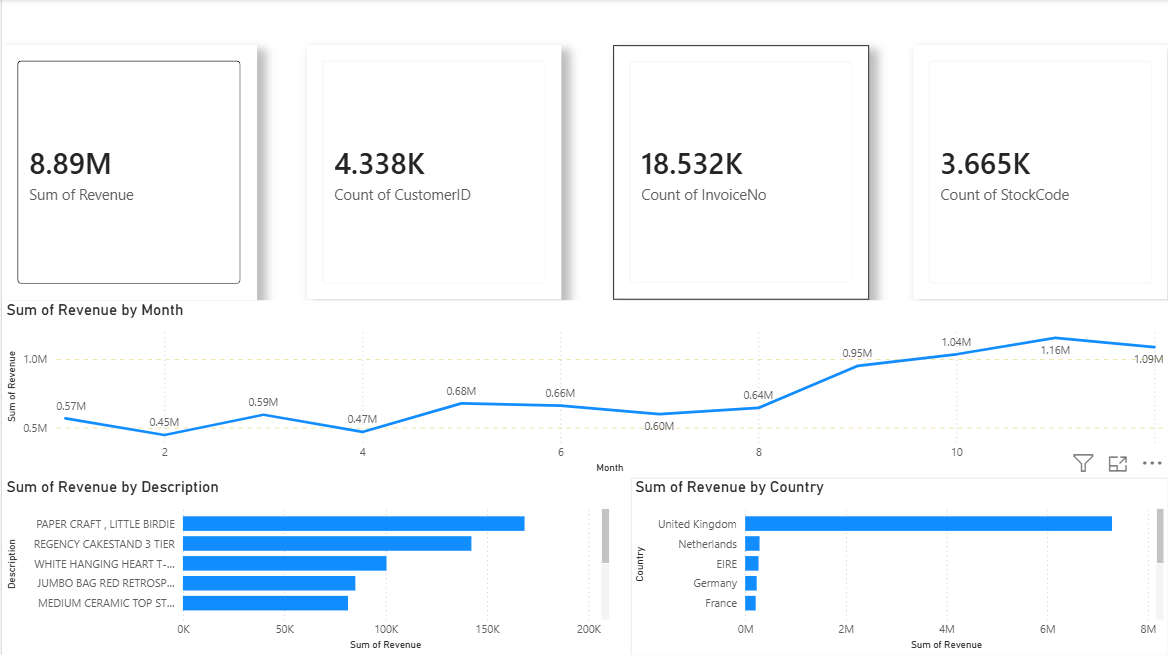

What the dashboard file says about the page in this screenshot:
{"tool":"powerbi","page":{"name":"Page 1","canvas":[1280,720],"ordinal":0},"visuals":[{"type":"cardVisual","fields":{"Data":["Sum(cleaned_retail_data.Revenue)"]},"box":[0,50.8,279.9,279.9],"z":0},{"type":"cardVisual","fields":{"Data":["Count(cleaned_retail_data.CustomerID)"]},"box":[335,51.3,279.4,279.4],"z":1000},{"type":"cardVisual","fields":{"Data":["Count(cleaned_retail_data.InvoiceNo)"]},"box":[671.4,51.3,280.8,279.4],"z":2000},{"type":"cardVisual","fields":{"Data":["Count(cleaned_retail_data.StockCode)"]},"box":[1000.6,51.3,279.4,279.4],"z":3000},{"type":"lineChart","fields":{"Category":["cleaned_retail_data.Month"],"Y":["Sum(cleaned_retail_data.Revenue)"]},"box":[0,330.7,1280.3,194.9],"z":4000},{"type":"clusteredBarChart","fields":{"Category":["cleaned_retail_data.Description"],"Y":["Sum(cleaned_retail_data.Revenue)"]},"box":[0,525.6,671,194.9],"z":5000},{"type":"clusteredBarChart","fields":{"Y":["Sum(cleaned_retail_data.Revenue)"],"Category":["cleaned_retail_data.Country"]},"box":[690.2,525.6,590.1,194.9],"z":6000}]}

Visuals, with their boxes in screenshot pixels (x1, y1, x2, y2), scaled from the page's 1280x720 canvas onto the 1168x655 screenshot:
cardVisual - Sum(cleaned_retail_data.Revenue): (left=0, top=46, right=255, bottom=301)
cardVisual - Count(cleaned_retail_data.CustomerID): (left=306, top=47, right=561, bottom=301)
cardVisual - Count(cleaned_retail_data.InvoiceNo): (left=613, top=47, right=869, bottom=301)
cardVisual - Count(cleaned_retail_data.StockCode): (left=913, top=47, right=1167, bottom=301)
lineChart - cleaned_retail_data.Month x Sum(cleaned_retail_data.Revenue): (left=0, top=301, right=1167, bottom=478)
clusteredBarChart - cleaned_retail_data.Description x Sum(cleaned_retail_data.Revenue): (left=0, top=478, right=612, bottom=654)
clusteredBarChart - Sum(cleaned_retail_data.Revenue) x cleaned_retail_data.Country: (left=630, top=478, right=1167, bottom=654)
